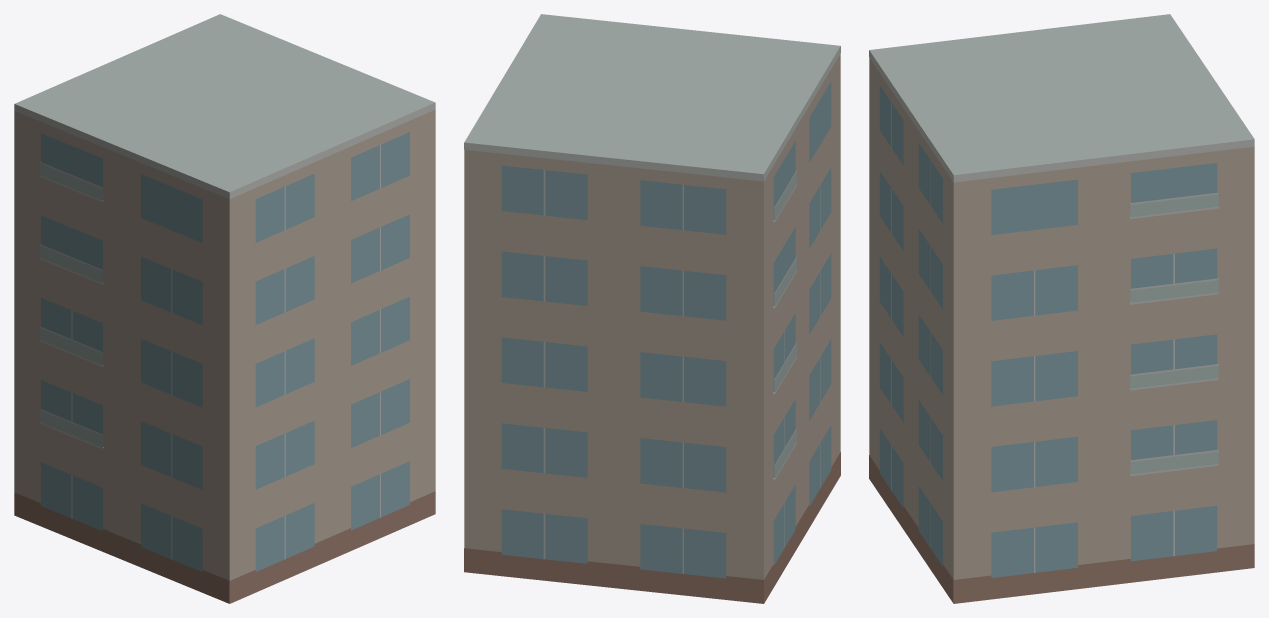
Rendered from survey-upis-32715219.glb.
3 renders of one model, left to right at view 1: azimuth 30°, elevation 25°; view 2: azimuth 150°, elevation 25°; view 3: azimuth 270°, elevation 25°, orthographic. The views are drawn at different scales.
Parts seen in each view (by area): view 1: survey-upis-32715219.tmp; view 2: survey-upis-32715219.tmp; view 3: survey-upis-32715219.tmp.
Part boxes in pixels (bbox=[...]): survey-upis-32715219.tmp: bbox=[14, 14, 435, 603]; survey-upis-32715219.tmp: bbox=[464, 14, 840, 603]; survey-upis-32715219.tmp: bbox=[869, 14, 1254, 603].
Bounding box in the file's own units: 11.71 × 14.5 × 11.83.
